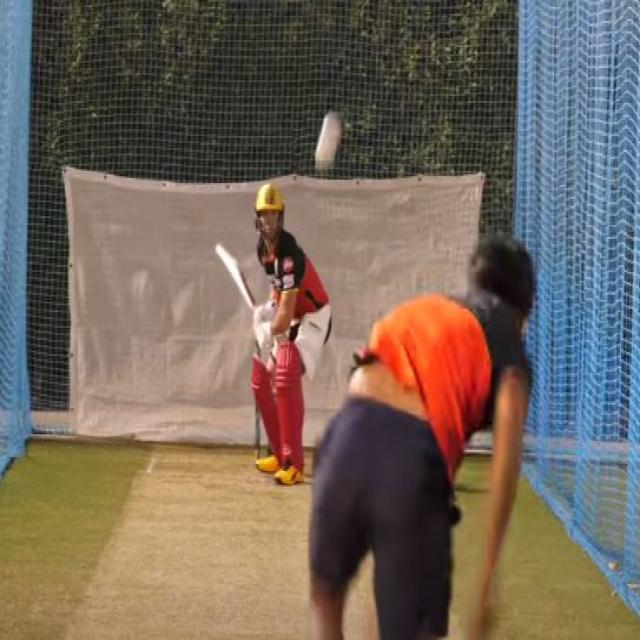ball: (304, 104, 352, 174)
